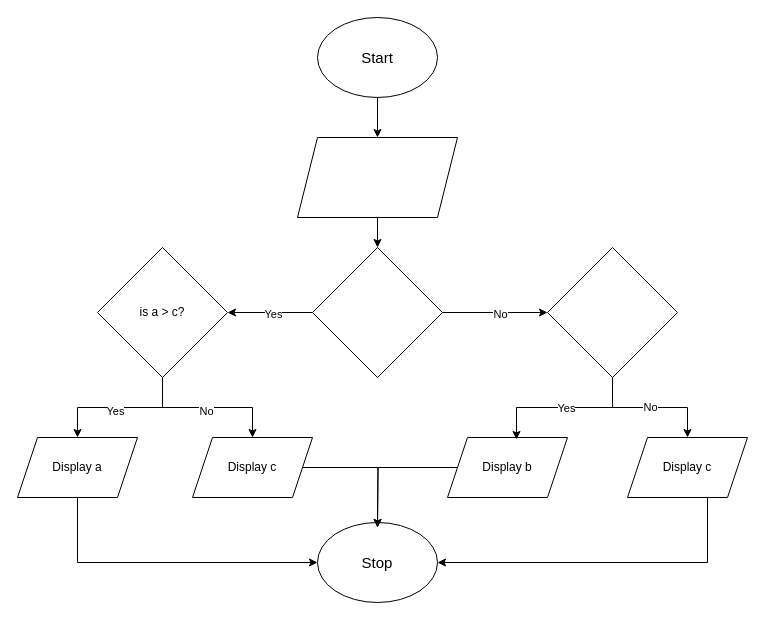
Image size: 765x620. Some labels were removed from this diagram. The centre of each missing label's shape, as x and y in pixels:
"is a > b?" belongs at pixel 377 312.
"is b > c?" belongs at pixel 612 312.
"Take 3 numbers: a,b and c from user" belongs at pixel 377 177.
